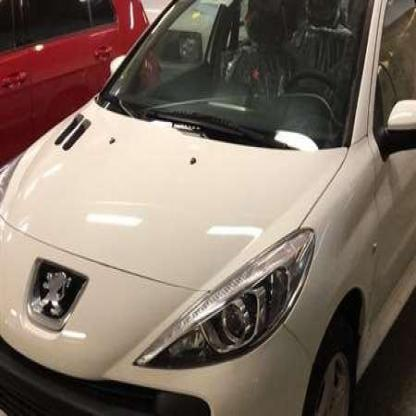Car: (0, 0, 416, 416), (0, 0, 168, 173)
